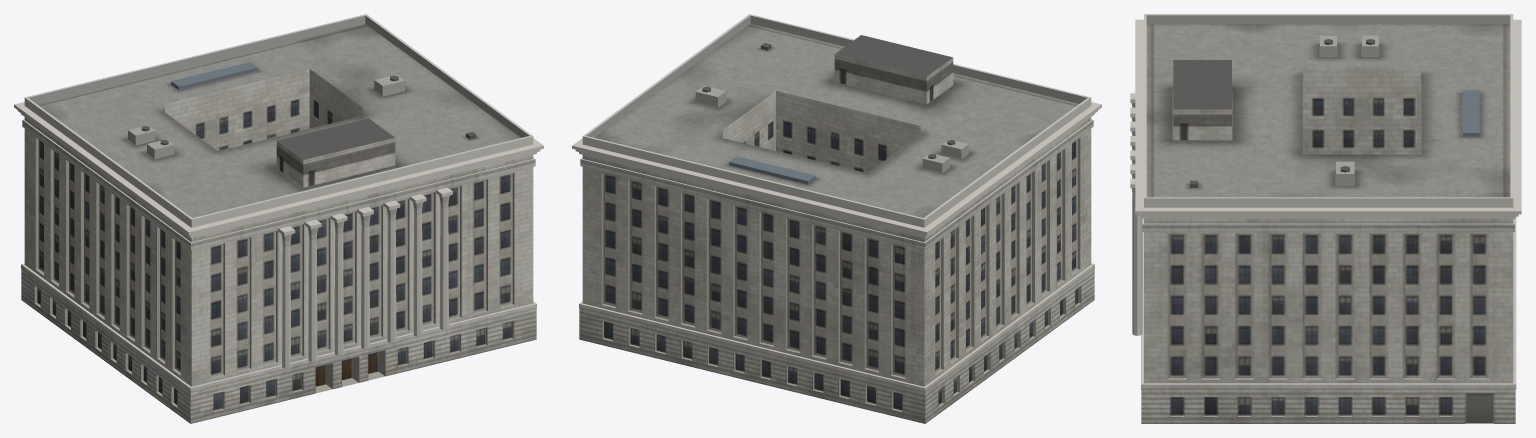
Rendered from dc_fed_white_b.glb.
3 views of the same model, side by side, from view 1: azimuth 30°, elevation 25°; view 2: azimuth 150°, elevation 25°; view 3: azimuth 270°, elevation 25° (orthographic). The views are drawn at different scales.
Parts seen in each view (by area): view 1: dc_fed_white_b; view 2: dc_fed_white_b; view 3: dc_fed_white_b.
Boxes of the visible parts, x1,y1,x2,y2 form: dc_fed_white_b: (14,14,543,423); dc_fed_white_b: (572,14,1101,423); dc_fed_white_b: (1130,14,1521,423).
Size of the model in its own units: 54 by 32.3 by 46.61.
1 material, 1 textured.
